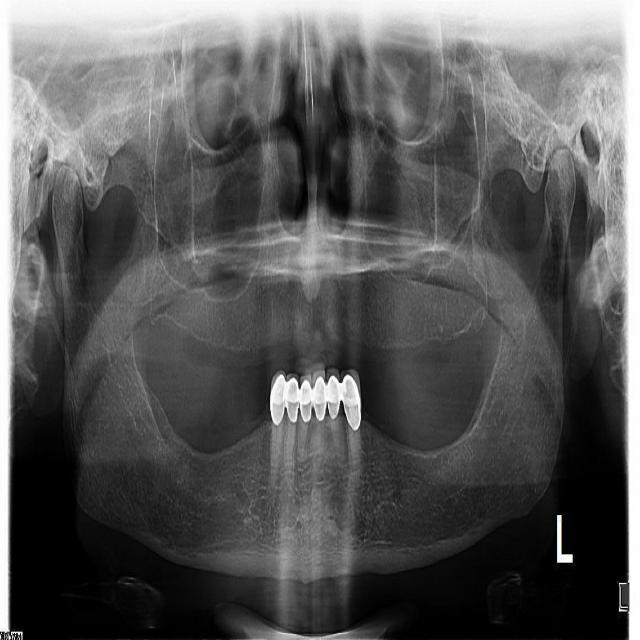Crown: (340, 367, 362, 428), (269, 367, 286, 426), (325, 369, 340, 421), (312, 365, 326, 420), (299, 374, 313, 421), (285, 375, 298, 422)
Missing teeth: (172, 322, 475, 361), (359, 382, 458, 451), (175, 388, 270, 453)
